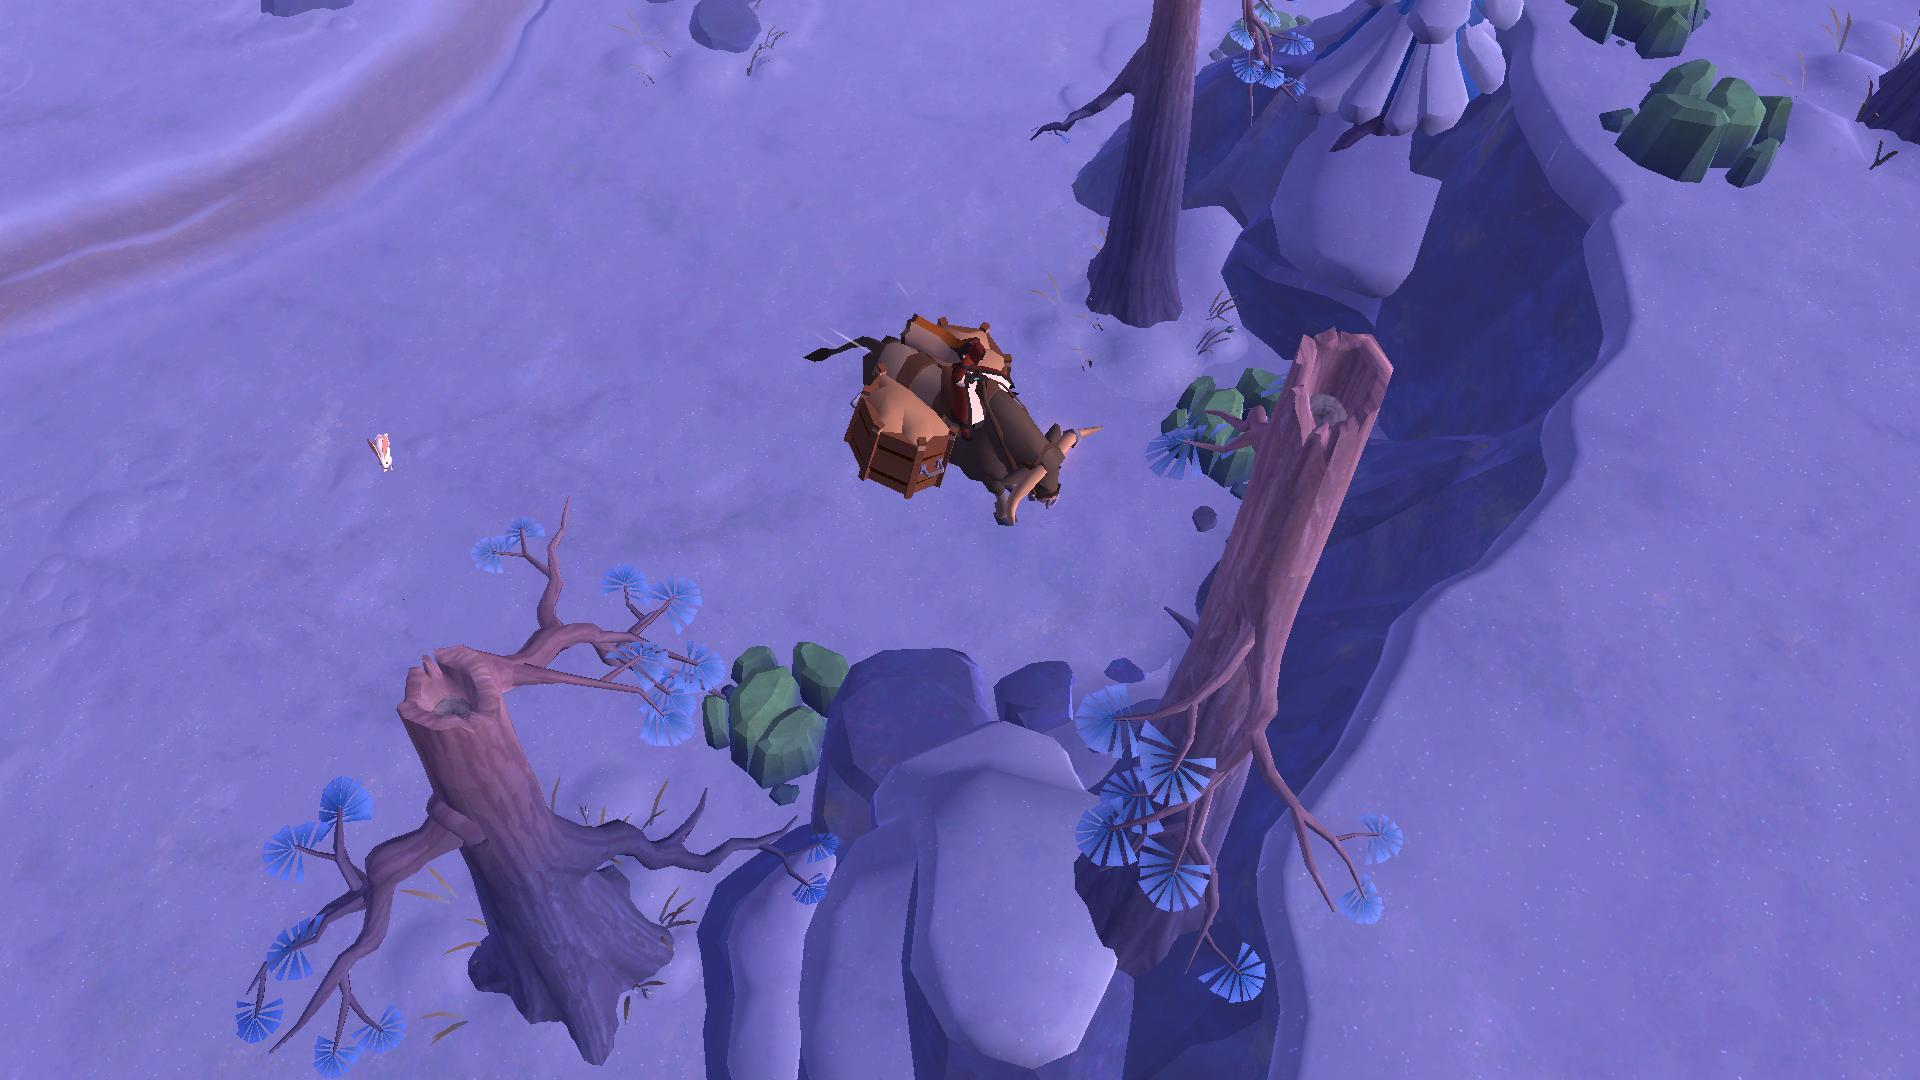rock_t3: (702, 636, 876, 791), (1597, 66, 1804, 196), (1164, 360, 1328, 502), (1563, 0, 1714, 61)
